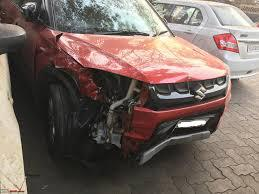bonnet-dent: (64, 33, 227, 85)
fender-dent: (33, 30, 66, 113)
front-bumper-dent: (87, 97, 231, 152)
